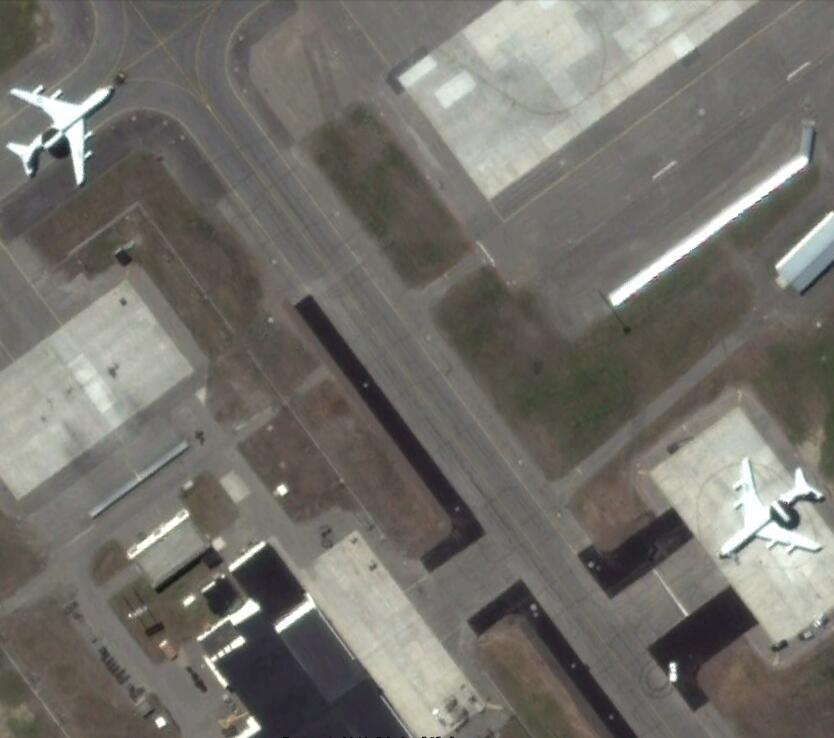A7: (716, 455, 824, 571), (5, 78, 113, 186)
